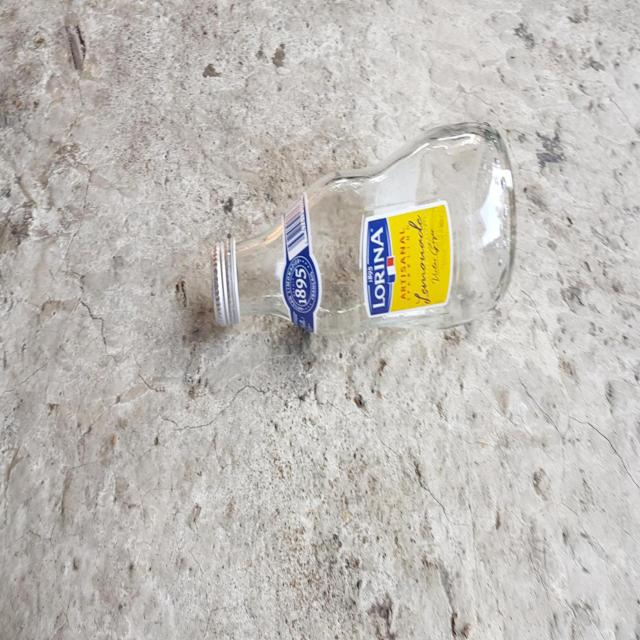glass: (211, 122, 516, 333)
